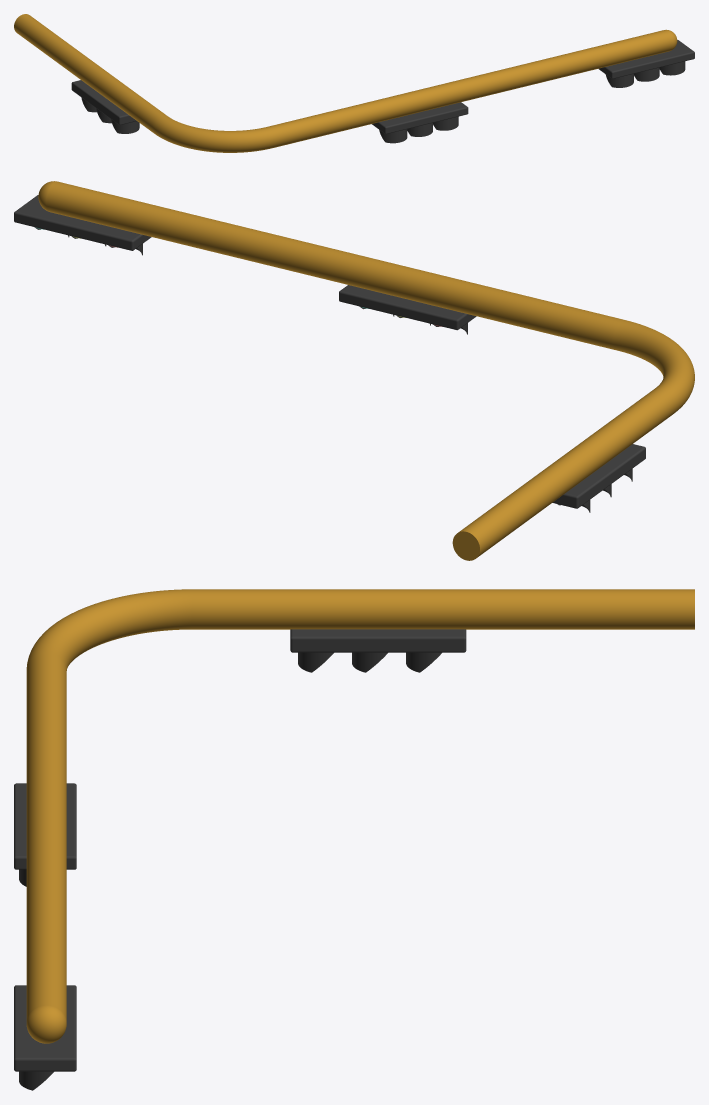
The model's file is traffic_light.obj.
3 renders of one model, top to bottom at view 1: azimuth 30°, elevation 25°; view 2: azimuth 150°, elevation 25°; view 3: azimuth 270°, elevation 25°, orthographic. The views are drawn at different scales.
Parts seen in each view (by area): view 1: Sem_foro_(1); view 2: Sem_foro_(1); view 3: Sem_foro_(1).
Part boxes in pixels (bbox=[...]): Sem_foro_(1): bbox=[14, 14, 694, 152]; Sem_foro_(1): bbox=[14, 181, 694, 560]; Sem_foro_(1): bbox=[14, 589, 694, 1090].
Size of the model in its own units: 0.4195 by 0.0315 by 0.271.
